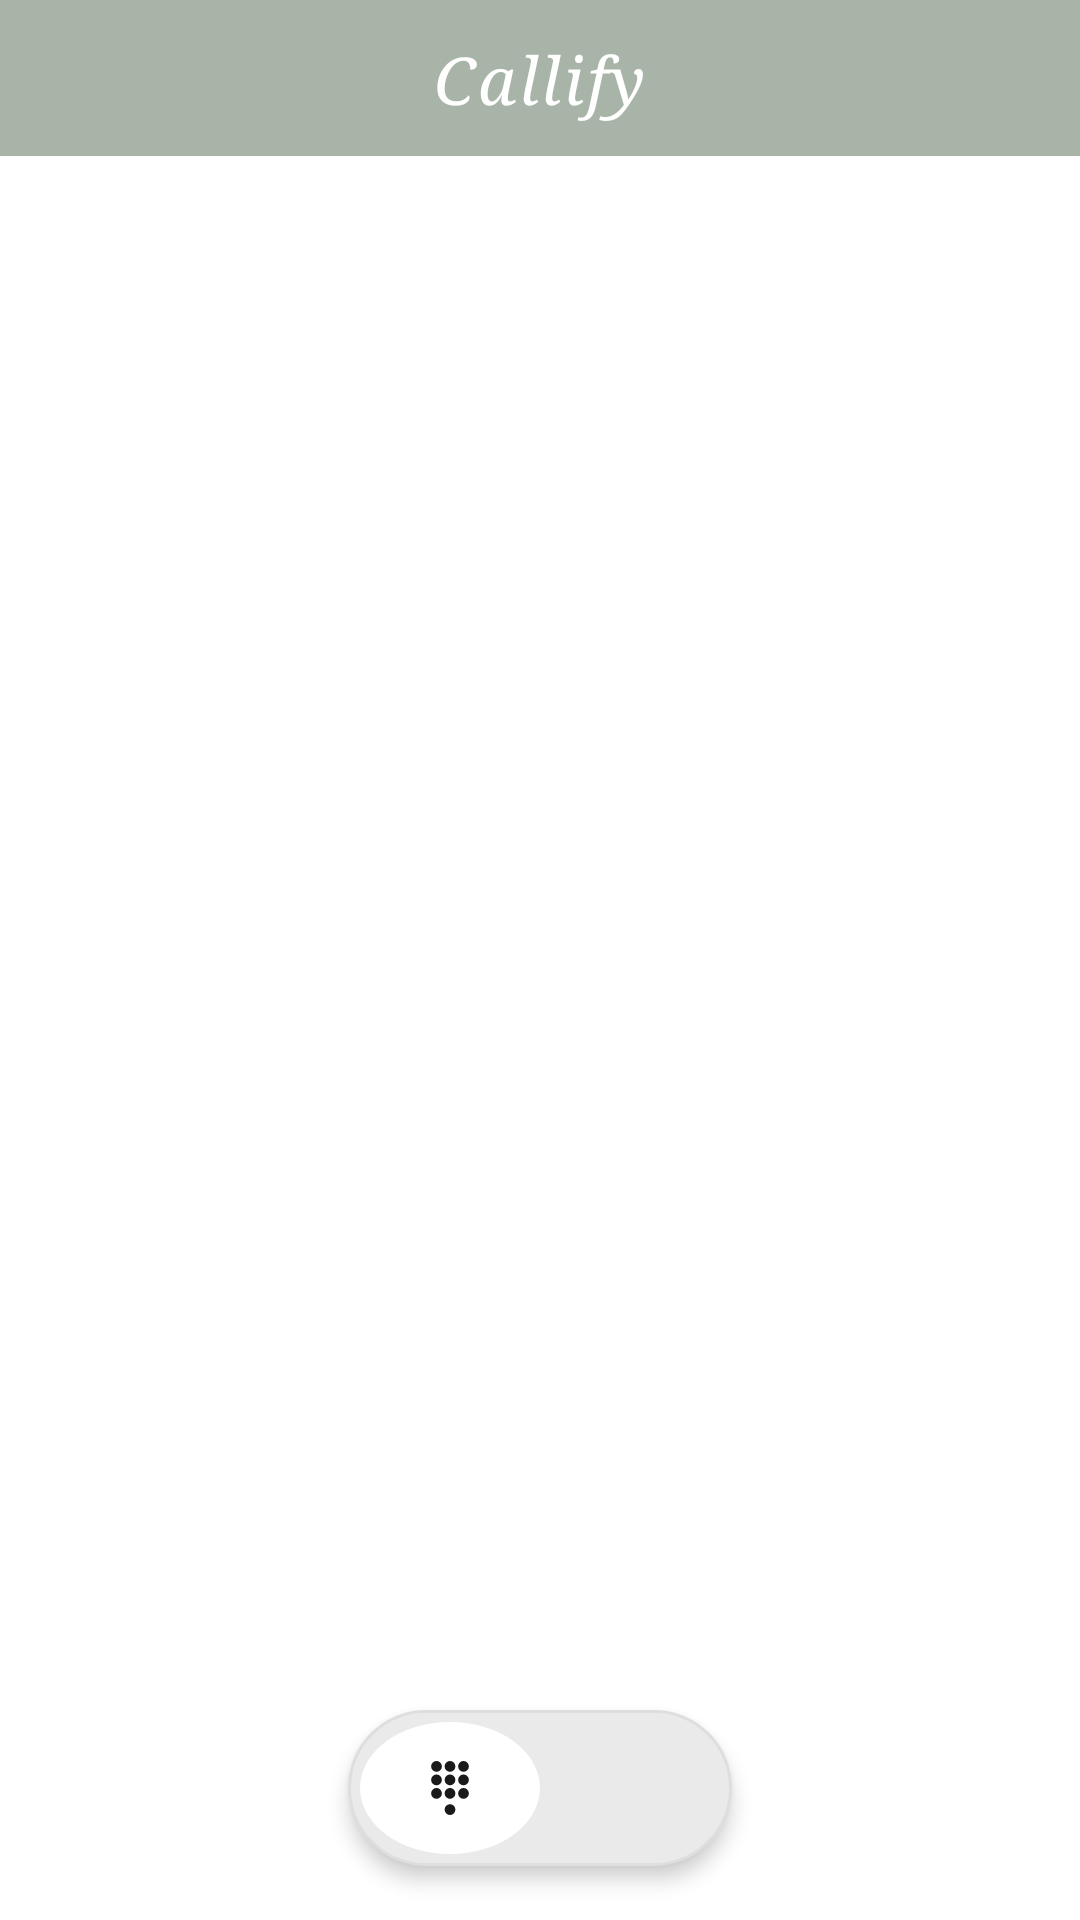

Screen size 1080×1920. Icon name, then its center in pixels as [x,y]:
Dial tab: [450,1788]
